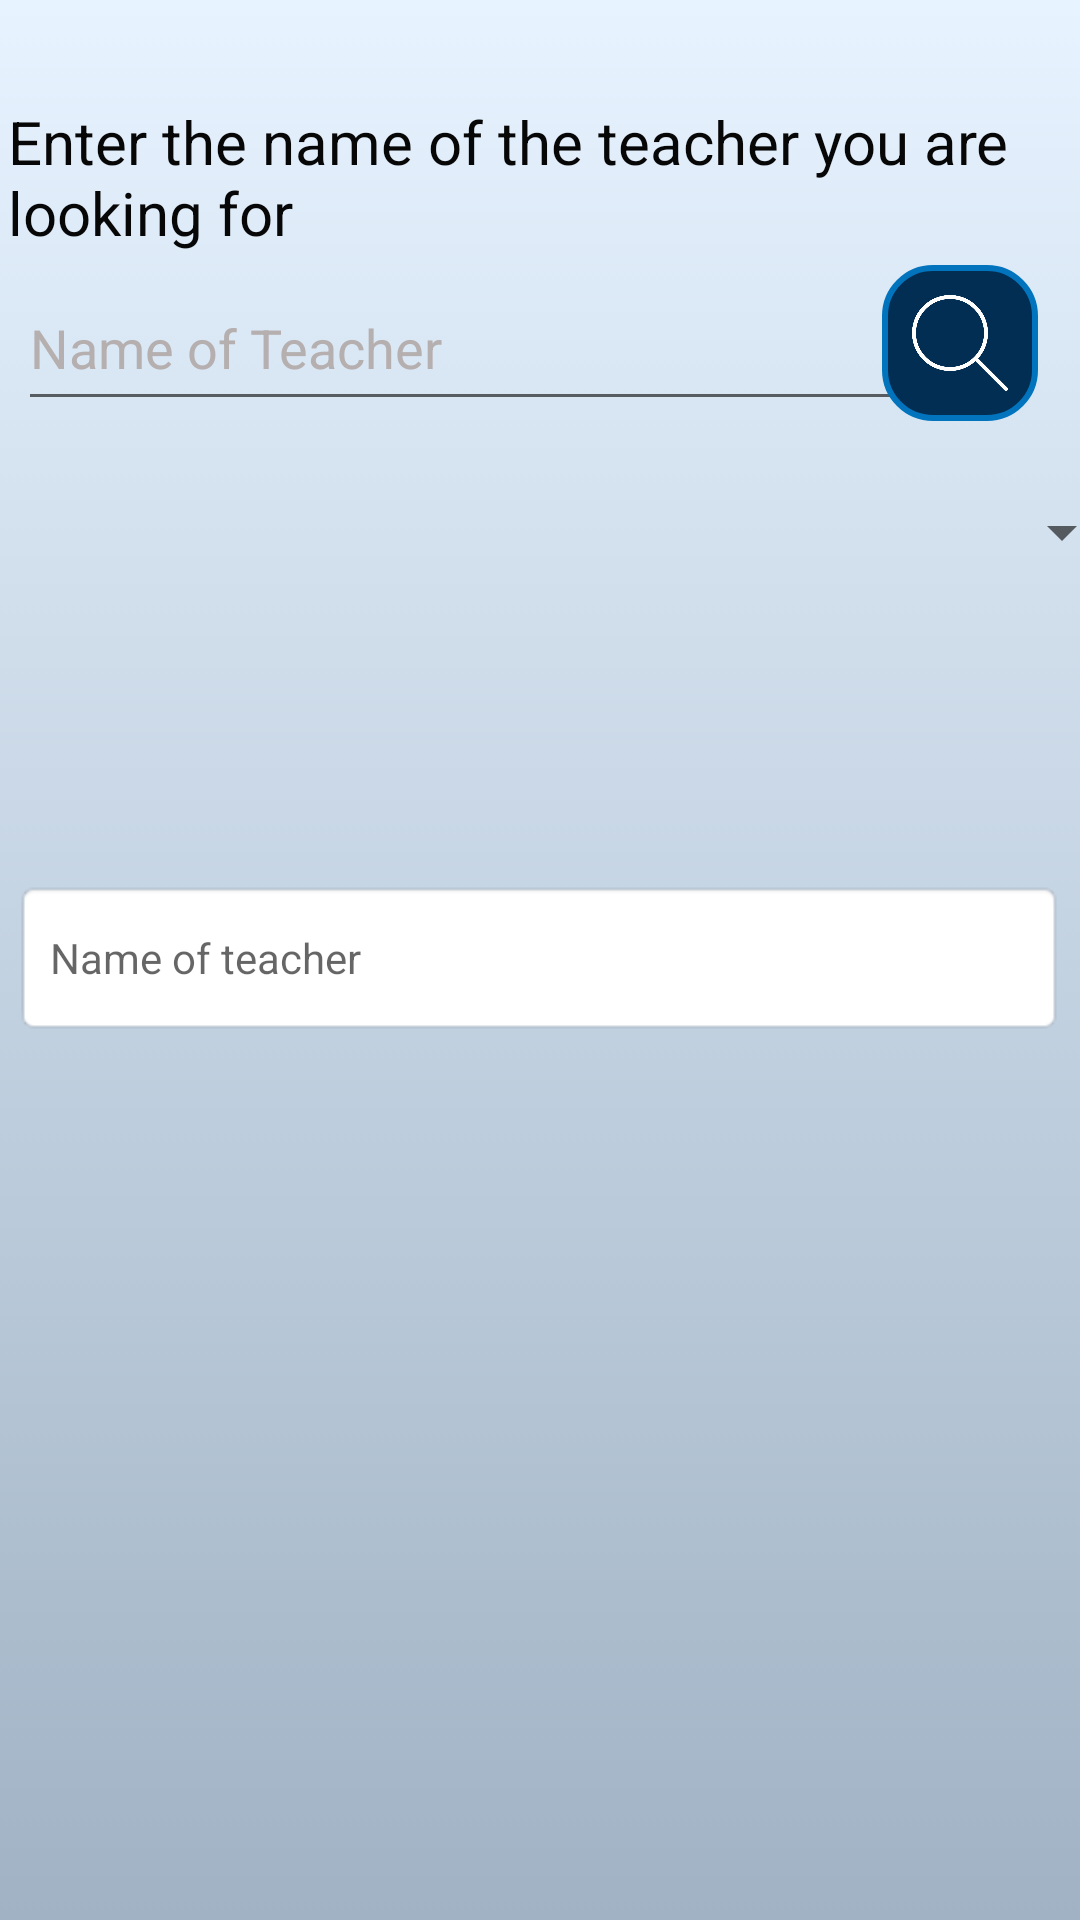

Screen size 1080px×1920px. Icon name, then its center in pixels as (x=x, y=y):
search: (x=960, y=343)
